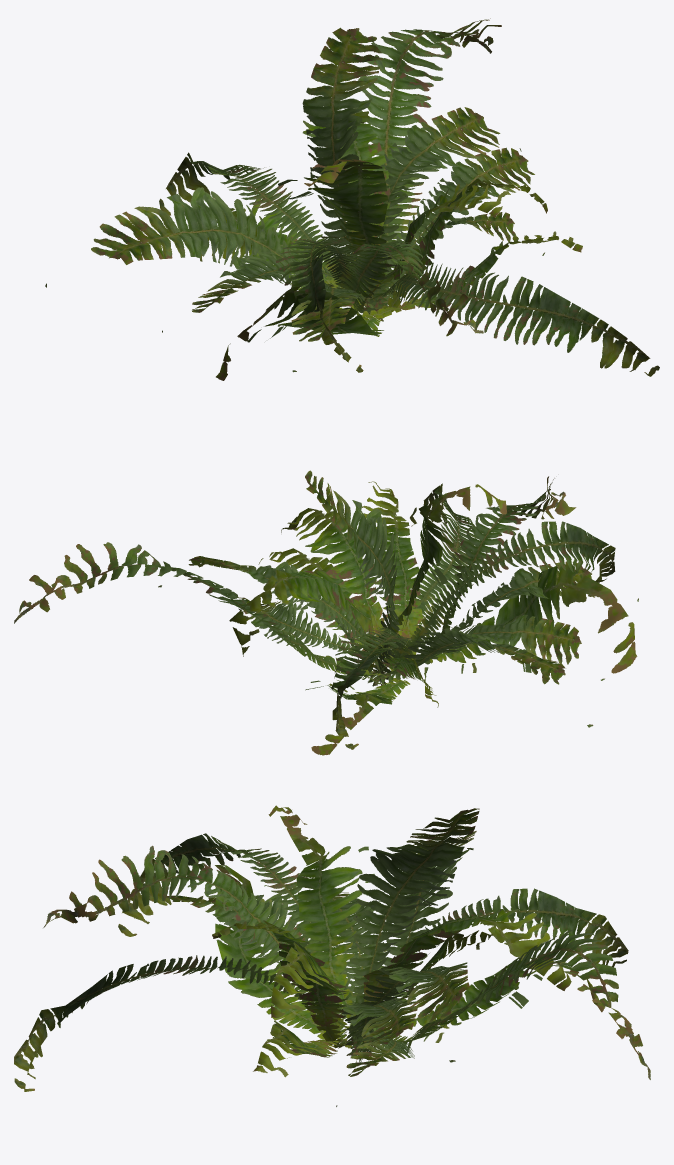
The model's file is fern.obj.
3 renders of one model, top to bottom at view 1: azimuth 30°, elevation 25°; view 2: azimuth 150°, elevation 25°; view 3: azimuth 270°, elevation 25°, orthographic. The views are drawn at different scales.
Parts seen in each view (by area): view 1: fern; view 2: fern; view 3: fern.
Part boxes in pixels (x1,y1,x2,y2): fern: [45, 18, 659, 380]; fern: [14, 470, 638, 755]; fern: [14, 805, 650, 1106].
Bounding box in the file's own units: 2.31 × 1 × 2.09.
1 material, 1 textured.
